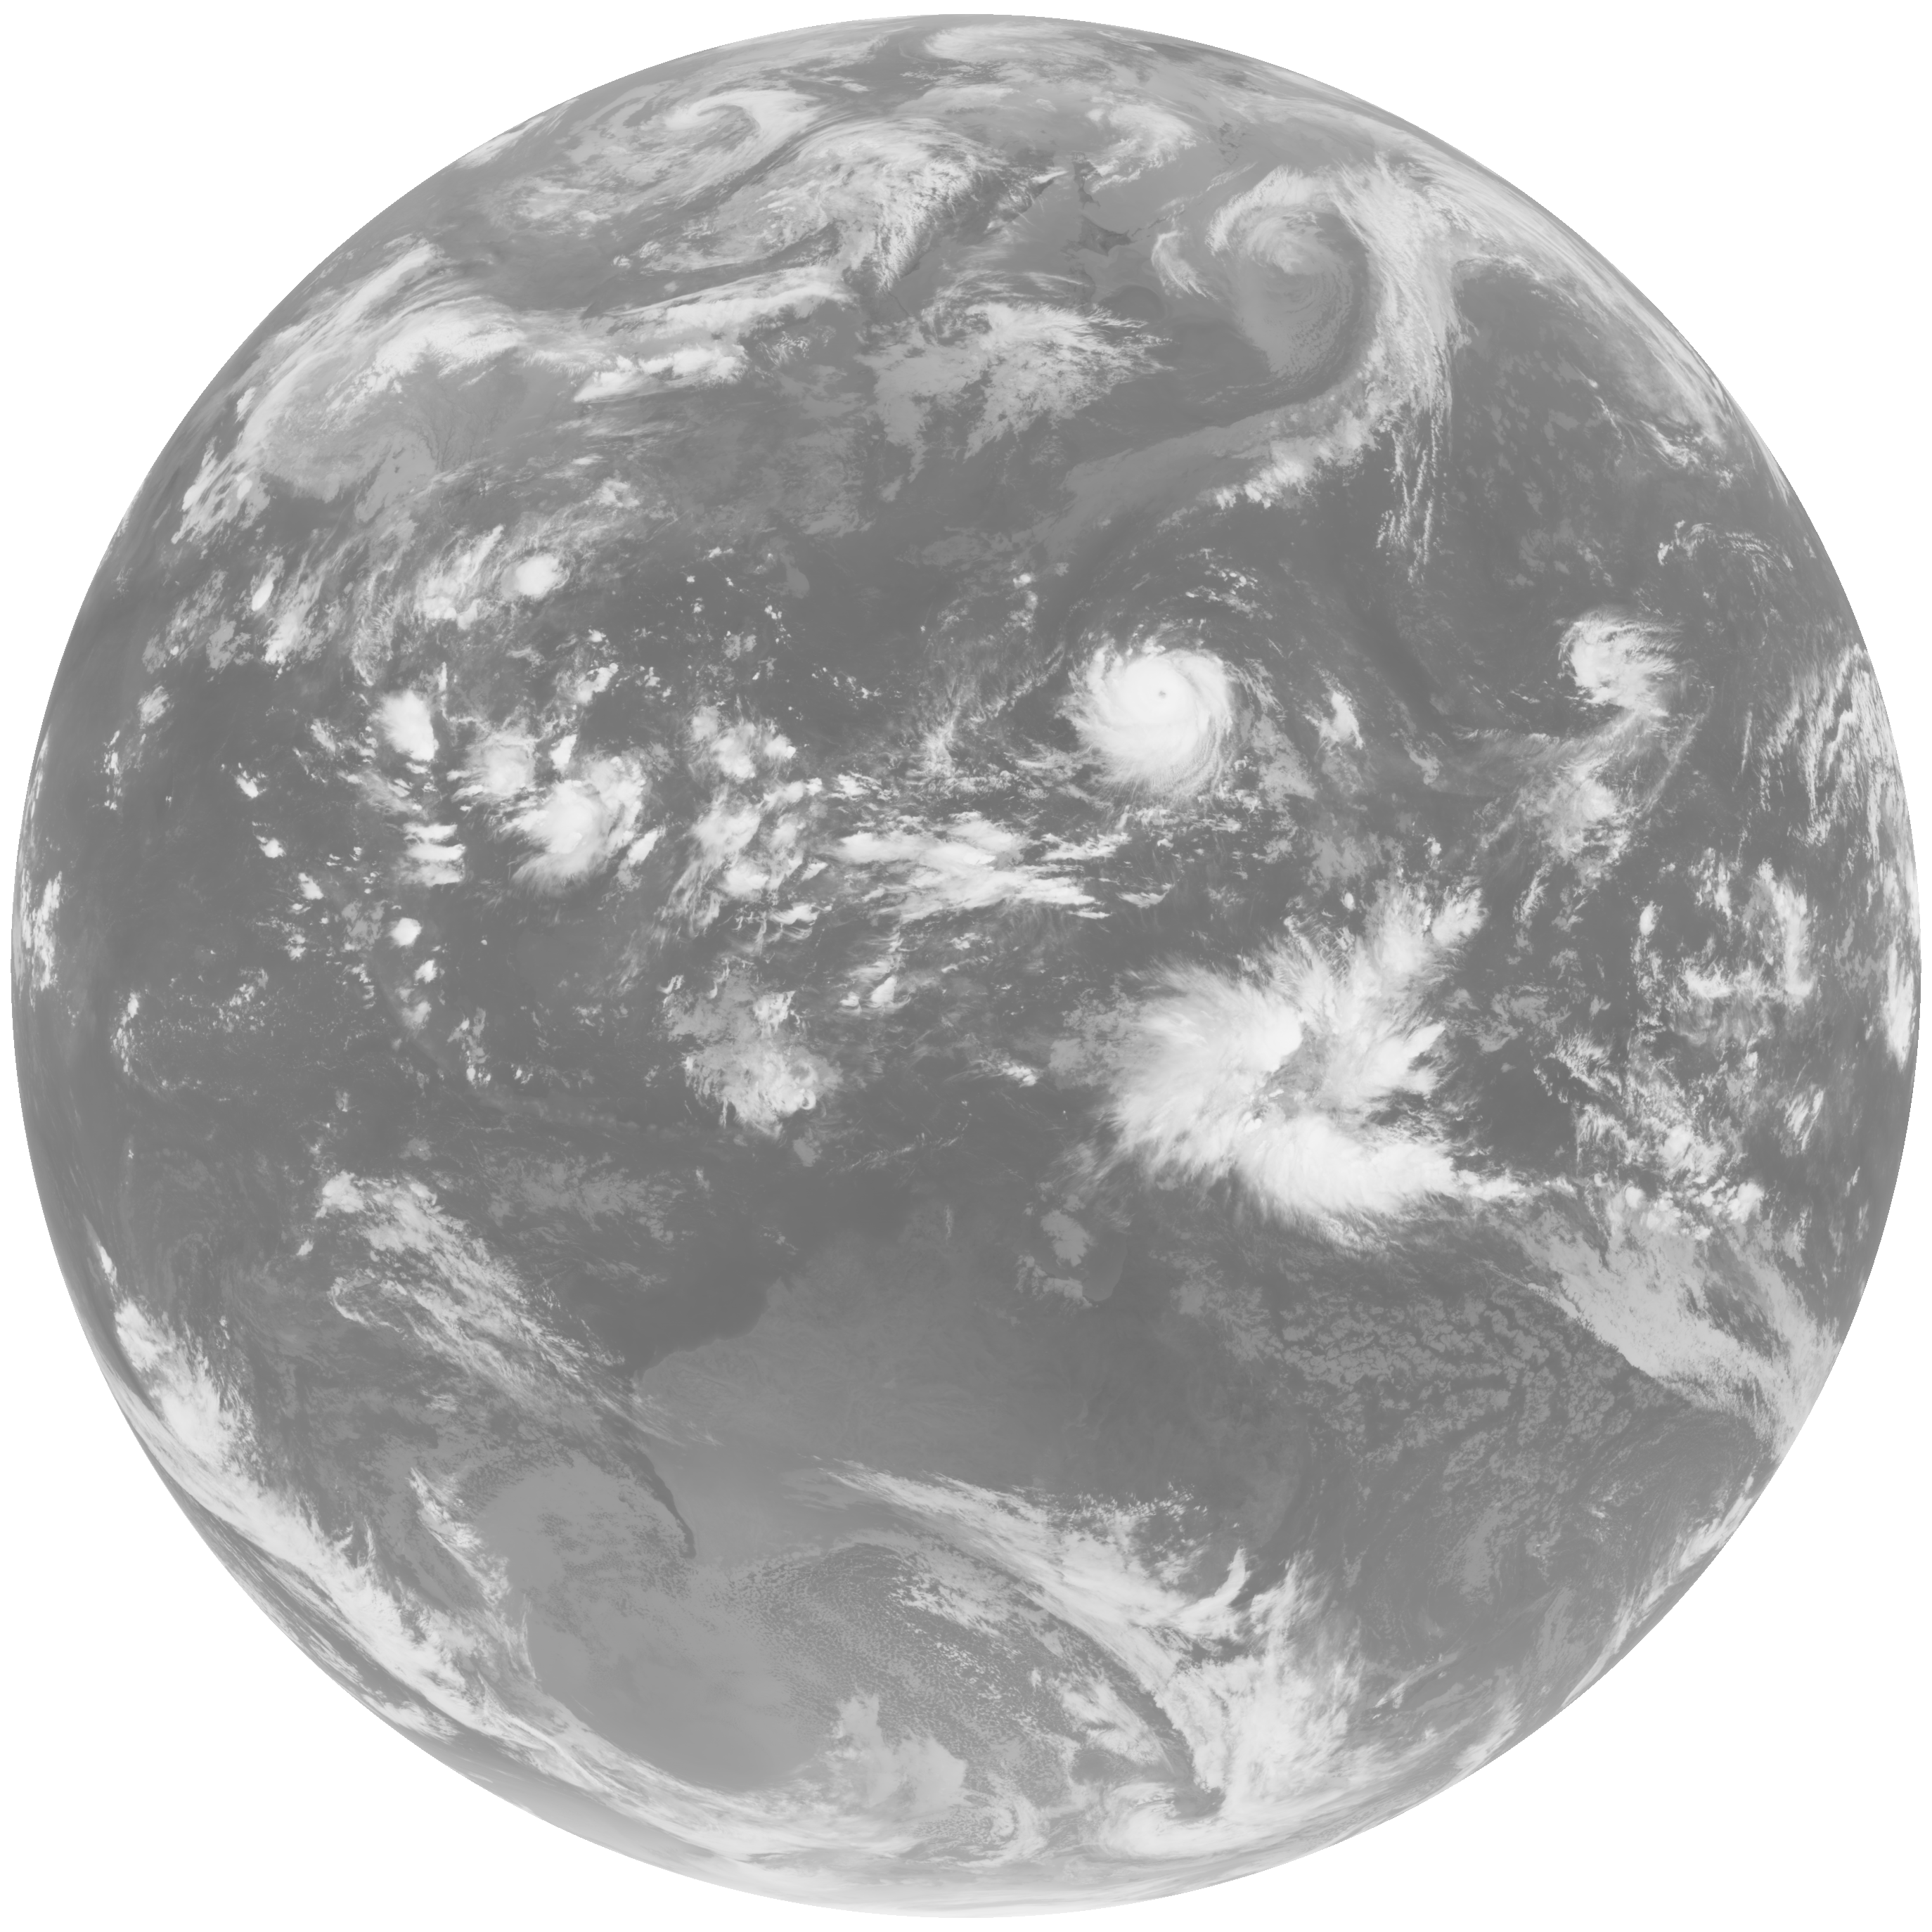typhoon: (922, 584, 1364, 904)
